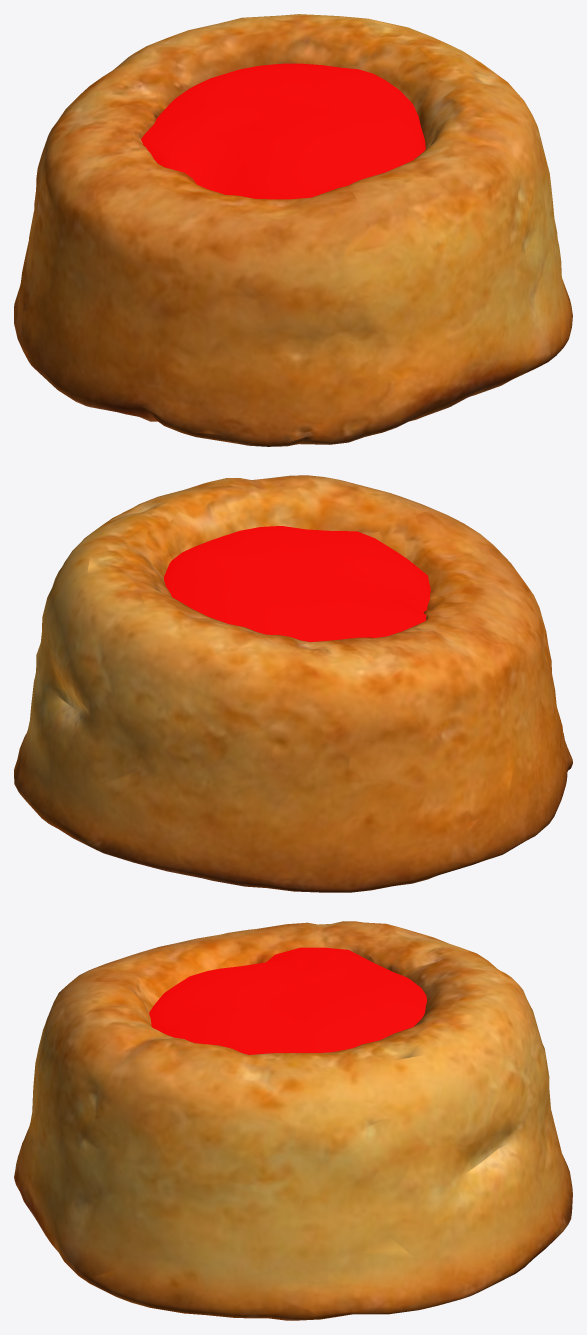
File: st_jam_tart.gltf
3 views of the same model, one above another, from view 1: azimuth 30°, elevation 25°; view 2: azimuth 150°, elevation 25°; view 3: azimuth 270°, elevation 25° (orthographic). The views are drawn at different scales.
Parts seen in each view (by area): view 1: Cupcake; view 2: Cupcake; view 3: Cupcake.
Part boxes in pixels (x1=…): Cupcake: x1=14, y1=14, x2=572, y2=446; Cupcake: x1=14, y1=475, x2=572, y2=892; Cupcake: x1=14, y1=921, x2=572, y2=1320.
Size of the model in its own units: 0.0998 by 0.046 by 0.0995.
Materials: 2 (1 with a texture image).
